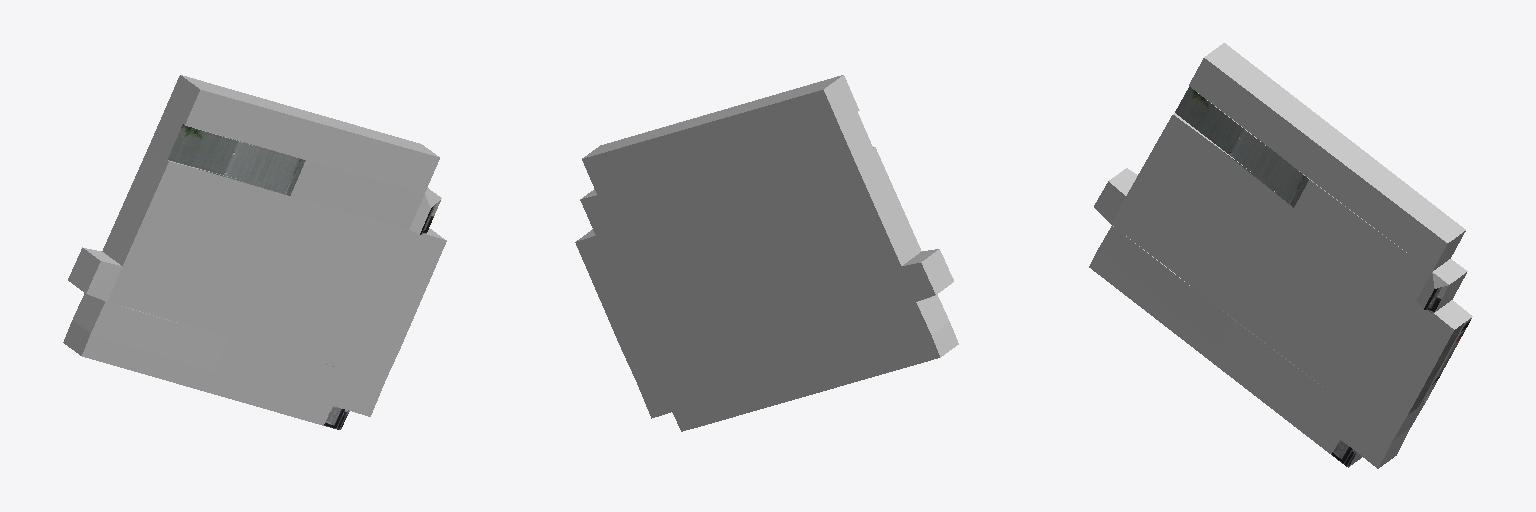
3 renders of one model, left to right at view 1: azimuth 30°, elevation 25°; view 2: azimuth 150°, elevation 25°; view 3: azimuth 330°, elevation 25°, orthographic.
Bounding box in the file's own units: 65.44 × 64.5 × 6.32.
Materials: 51 (6 with a texture image).